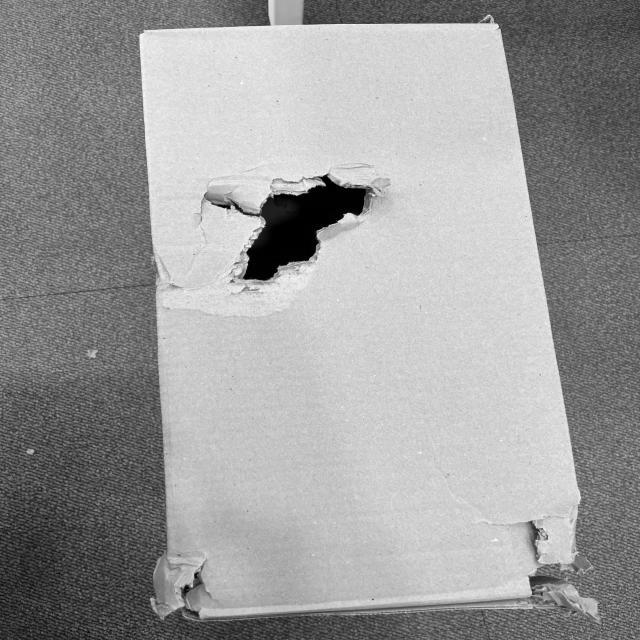hole: (197, 171, 397, 299), (499, 494, 589, 608), (163, 551, 221, 624)
